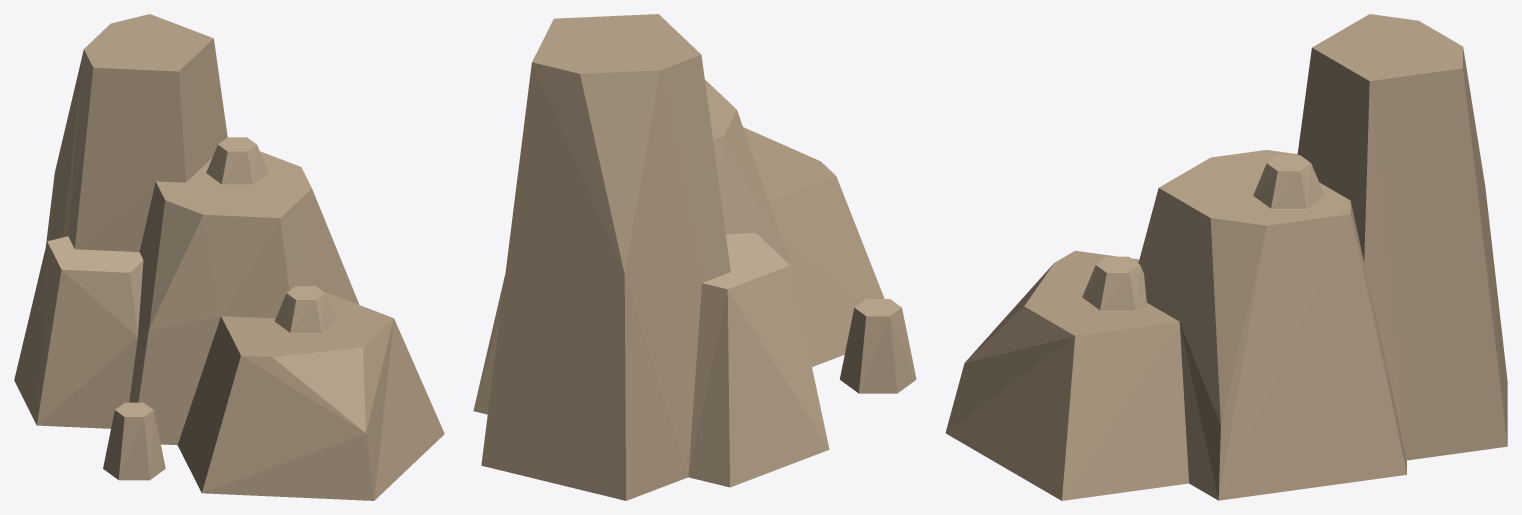
File: desert-rock-1.glb
The picture shows the model from 3 angles, left to right: view 1: azimuth 30°, elevation 25°; view 2: azimuth 150°, elevation 25°; view 3: azimuth 270°, elevation 25°; orthographic projection. The views are drawn at different scales.
Visible parts, largest first — view 1: desert-rock-1; view 2: desert-rock-1; view 3: desert-rock-1.
Part boxes in pixels (box(x1,y1,x2,y2)): desert-rock-1: box(14, 14, 444, 500); desert-rock-1: box(473, 14, 916, 500); desert-rock-1: box(945, 14, 1507, 500).
Size of the model in its own units: 0.8201 by 0.845 by 1.18.
